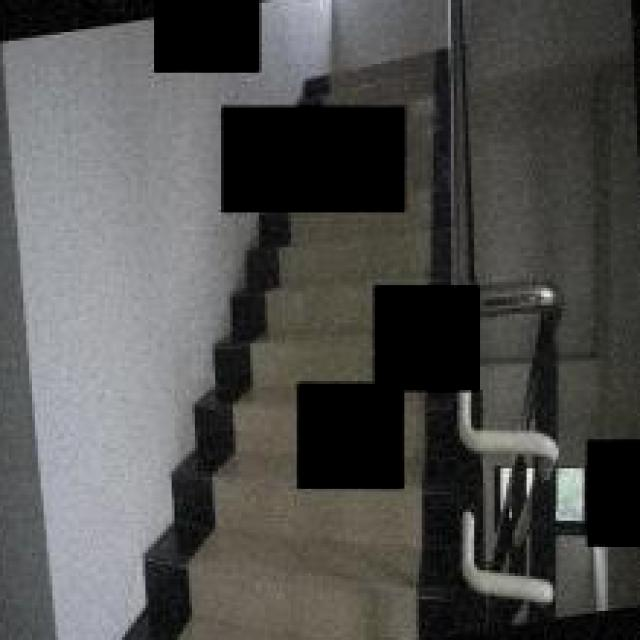upstair: (234, 231, 373, 376)
